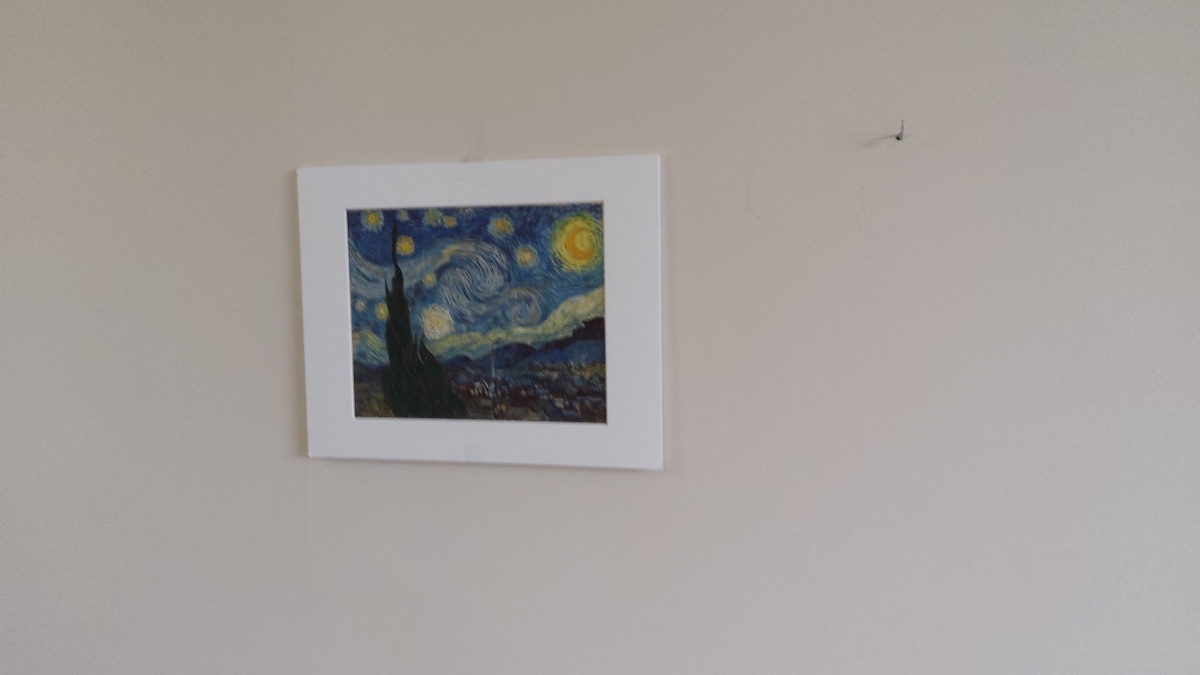painting: (341, 199, 619, 431)
